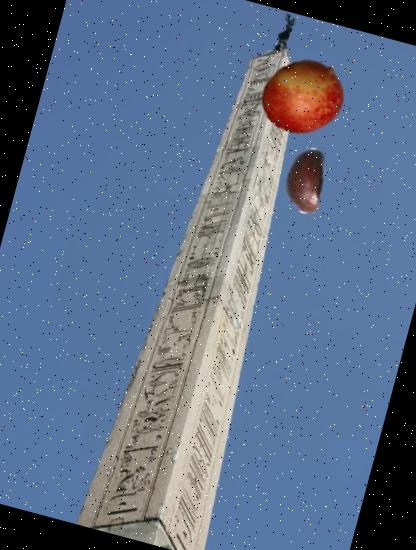Chestnut: (264, 141, 345, 222)
Nectarine: (254, 48, 353, 146)
